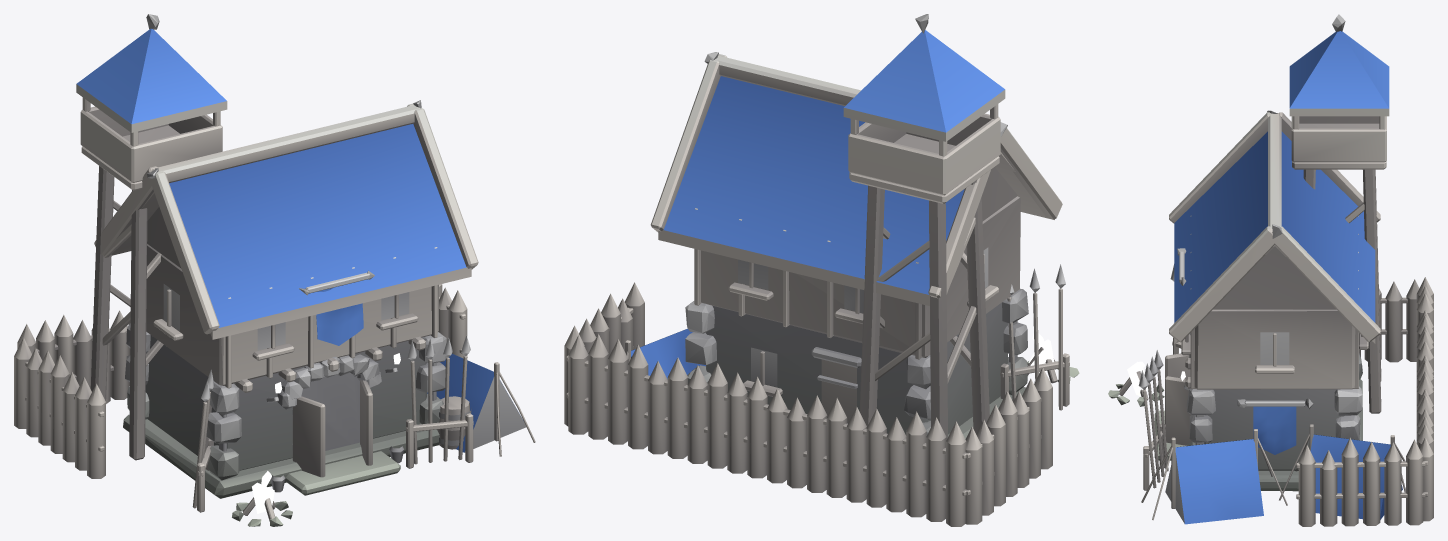
File: barracks_2_6.glb
3 renders of one model, left to right at view 1: azimuth 30°, elevation 25°; view 2: azimuth 150°, elevation 25°; view 3: azimuth 270°, elevation 25°, orthographic. The views are drawn at different scales.
Parts seen in each view (by area): view 1: Tower; view 2: Tower; view 3: Tower.
Part boxes in pixels (x1=…): Tower: x1=14, y1=14, x2=535, y2=526; Tower: x1=564, y1=14, x2=1079, y2=526; Tower: x1=1108, y1=14, x2=1433, y2=526.
Size of the model in its own units: 4.72 by 4.92 by 3.79.
